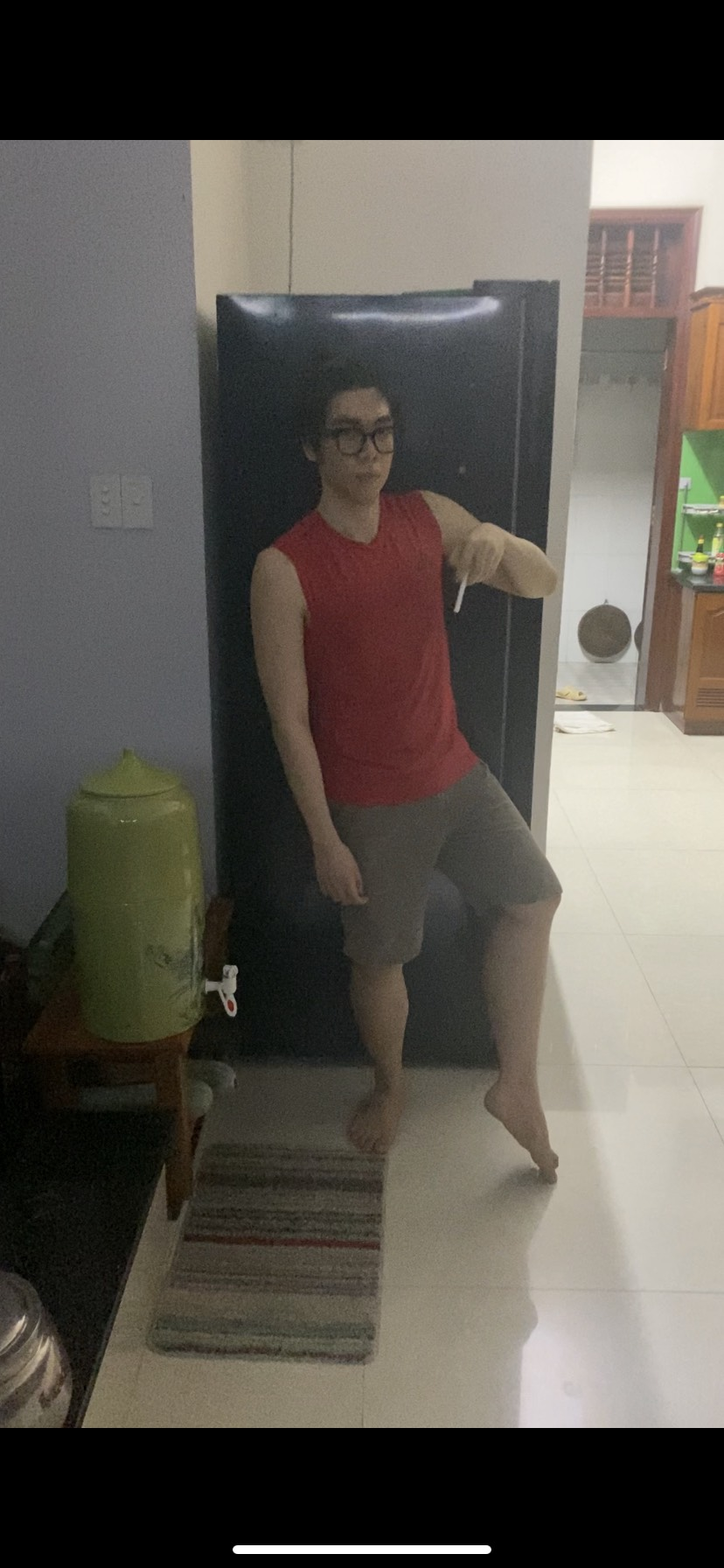cigarette: (449, 576, 472, 619)
person: (237, 362, 579, 1240)
